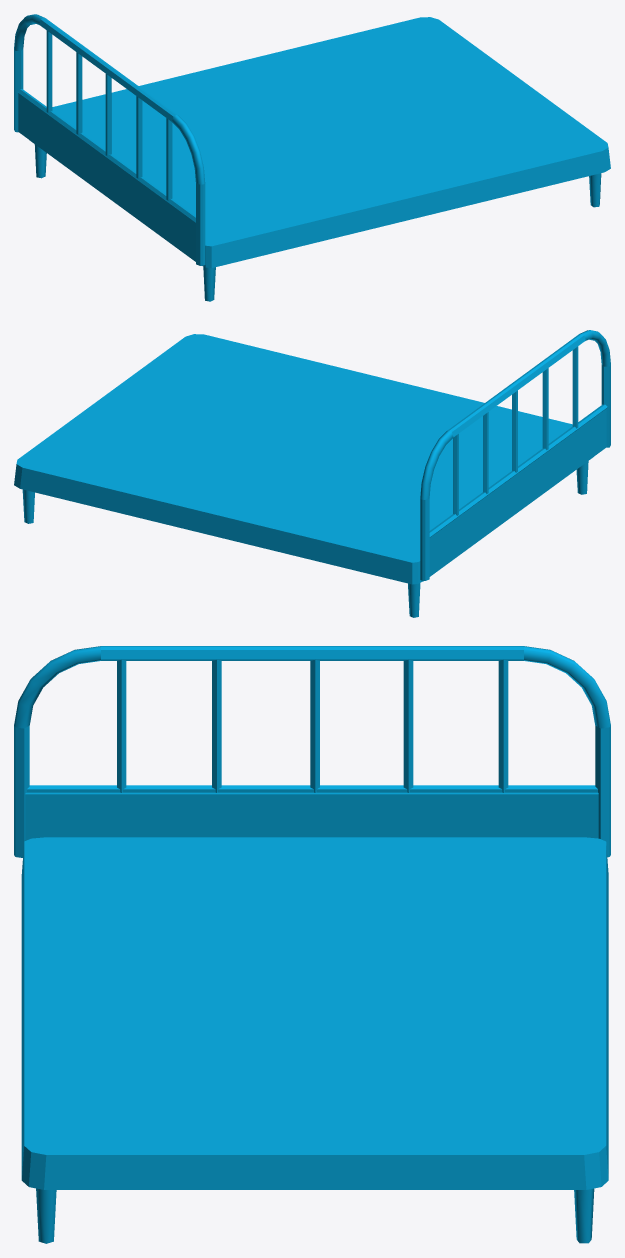
The model's file is Bedspring_01_Lod1.fbx.
3 renders of one model, top to bottom at view 1: azimuth 30°, elevation 25°; view 2: azimuth 150°, elevation 25°; view 3: azimuth 270°, elevation 25°, orthographic. The views are drawn at different scales.
Visible parts, largest first — view 1: Bedspring_01_Lod1; view 2: Bedspring_01_Lod1; view 3: Bedspring_01_Lod1.
Part boxes in pixels (left/top/right/bottom): Bedspring_01_Lod1: left=14, top=14, right=610, bottom=301; Bedspring_01_Lod1: left=14, top=330, right=610, bottom=617; Bedspring_01_Lod1: left=14, top=646, right=610, bottom=1243.
Size of the model in its own units: 206 by 82.29 by 159.
